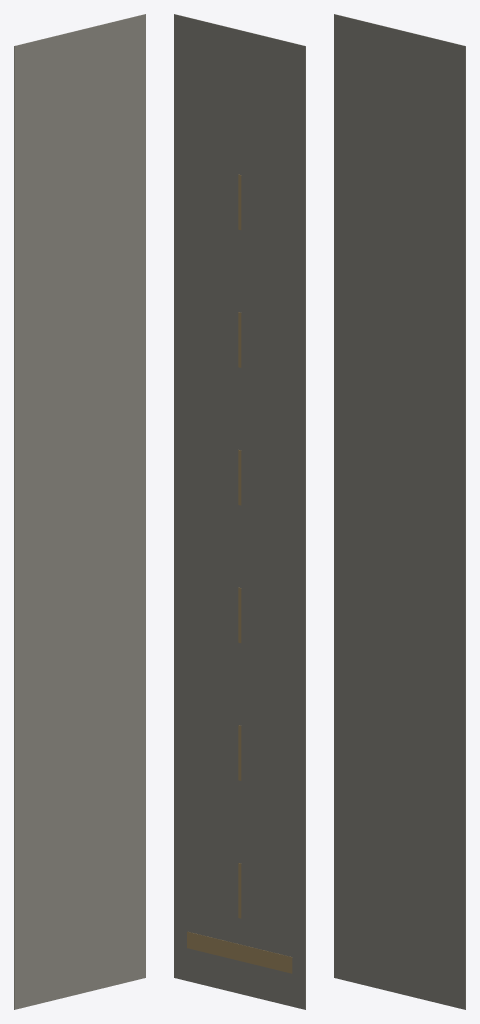
File: runway_modular_segment.glb
The picture shows the model from 3 angles, left to right: view 1: azimuth 30°, elevation 25°; view 2: azimuth 150°, elevation 25°; view 3: azimuth 330°, elevation 25°; orthographic projection.
Visible parts, largest first — view 1: runway_segment; view 2: runway_segment, threshold; view 3: runway_segment.
Part boxes in pixels (x1,y1,x2,y2): runway_segment: (14,14,145,1009); runway_segment: (174,14,305,1009); threshold: (187,931,292,973); runway_segment: (334,14,465,1009).
Size of the model in its own units: 20 by 140 by 0.11.
